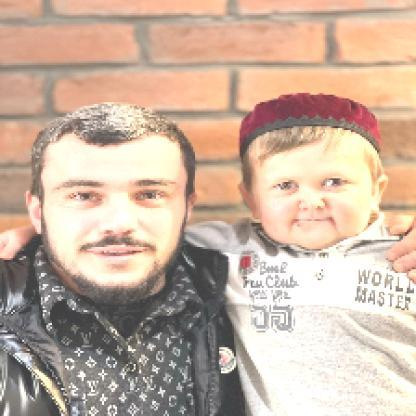child: (189, 94, 416, 416)
